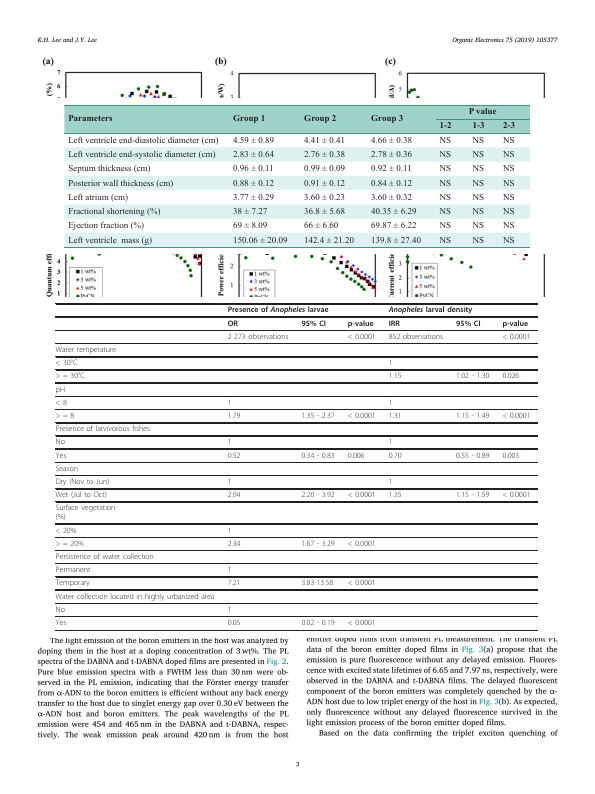borderless: (54, 302, 538, 630), (63, 103, 530, 247)
cell: (55, 592, 215, 602), (66, 136, 219, 146), (66, 150, 216, 160), (55, 504, 116, 522), (66, 179, 174, 189), (66, 207, 161, 217), (66, 164, 151, 175), (227, 306, 329, 315), (55, 553, 155, 562), (55, 425, 151, 434), (66, 236, 152, 246), (66, 221, 144, 232), (388, 306, 473, 315), (227, 332, 289, 342), (66, 193, 128, 203), (388, 332, 444, 342), (232, 236, 288, 246), (55, 346, 117, 355), (370, 221, 417, 232), (303, 236, 354, 246), (370, 236, 421, 246), (55, 478, 110, 487), (55, 491, 108, 500), (370, 207, 417, 217), (232, 164, 274, 175), (303, 164, 345, 175), (370, 164, 412, 175), (67, 115, 113, 125), (232, 136, 274, 146), (303, 136, 345, 146), (370, 136, 412, 146), (232, 150, 274, 160), (303, 150, 345, 160), (370, 150, 412, 160), (232, 179, 274, 189), (303, 179, 345, 189), (370, 179, 412, 189), (232, 193, 274, 203), (303, 193, 345, 203), (370, 193, 412, 203), (303, 207, 345, 217), (232, 221, 268, 232), (303, 221, 339, 232), (300, 451, 336, 461), (300, 539, 336, 549), (300, 618, 336, 628), (232, 207, 268, 217), (455, 451, 490, 461), (369, 115, 404, 125), (232, 115, 266, 125), (303, 115, 337, 125), (300, 412, 336, 421), (300, 491, 336, 500), (55, 566, 91, 575), (55, 579, 91, 588), (455, 372, 490, 381), (455, 412, 490, 421), (455, 491, 490, 500), (300, 579, 334, 588), (347, 332, 377, 342), (501, 332, 531, 342), (55, 539, 85, 549), (347, 539, 377, 549), (347, 618, 377, 628), (467, 108, 497, 118), (501, 319, 529, 329), (55, 372, 86, 381), (300, 319, 327, 329), (347, 319, 374, 329), (347, 412, 377, 421), (501, 412, 531, 421), (347, 491, 377, 500), (501, 491, 531, 500), (347, 579, 377, 588), (455, 319, 481, 329), (55, 464, 79, 474), (55, 526, 77, 536), (55, 359, 78, 368), (501, 451, 520, 461), (55, 412, 75, 421), (347, 451, 365, 461), (501, 372, 520, 381), (438, 164, 452, 175), (471, 164, 485, 175), (438, 221, 452, 232), (471, 221, 485, 232), (502, 164, 515, 175), (502, 221, 515, 232), (227, 451, 241, 461), (388, 451, 402, 461), (227, 539, 241, 549), (227, 618, 241, 628), (438, 122, 452, 132), (471, 122, 485, 132), (501, 122, 515, 132), (438, 136, 452, 146), (471, 136, 485, 146), (438, 150, 452, 160), (471, 150, 485, 160), (438, 179, 452, 189), (471, 179, 485, 189), (438, 193, 452, 203), (471, 193, 485, 203), (438, 207, 452, 217), (471, 207, 485, 217), (438, 236, 452, 246), (471, 236, 485, 246), (388, 319, 401, 329), (55, 398, 68, 408), (502, 136, 515, 146), (502, 150, 515, 160), (502, 179, 515, 189), (502, 193, 515, 203), (502, 207, 515, 217), (502, 236, 515, 246), (388, 372, 402, 381), (227, 412, 241, 421), (388, 412, 402, 421), (227, 491, 241, 500), (388, 491, 402, 500), (227, 579, 241, 588), (227, 319, 239, 329), (55, 451, 67, 461), (55, 618, 67, 628), (55, 385, 66, 395), (55, 605, 66, 615), (55, 438, 66, 447), (388, 398, 394, 408), (388, 359, 394, 368), (388, 438, 394, 447), (388, 478, 394, 487), (227, 398, 232, 408), (227, 526, 232, 536), (227, 605, 232, 615), (227, 438, 232, 447), (227, 478, 232, 487), (227, 566, 232, 575)
